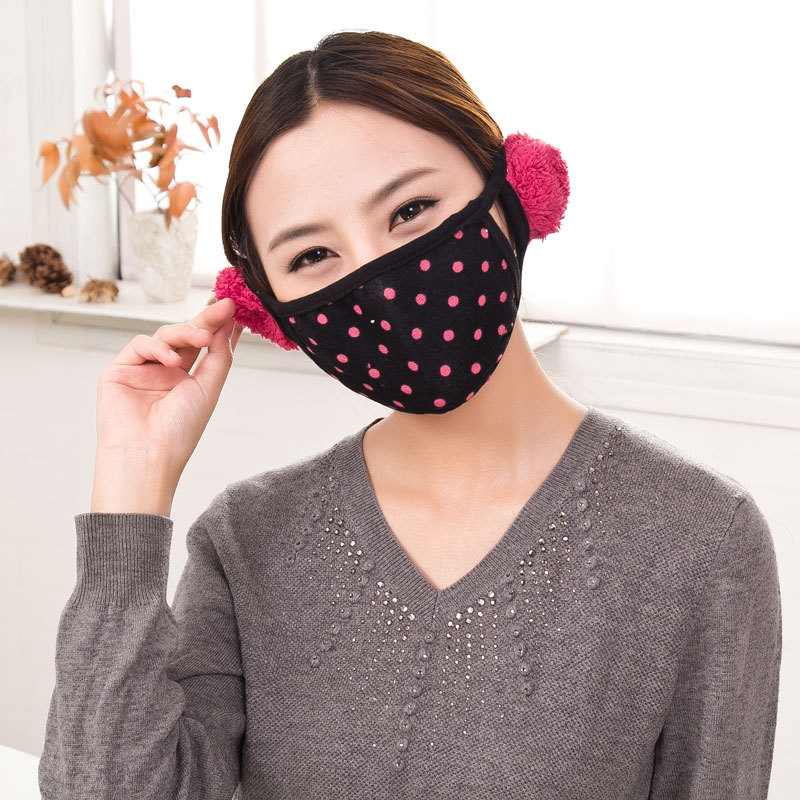face_mask: (268, 117, 504, 419)
